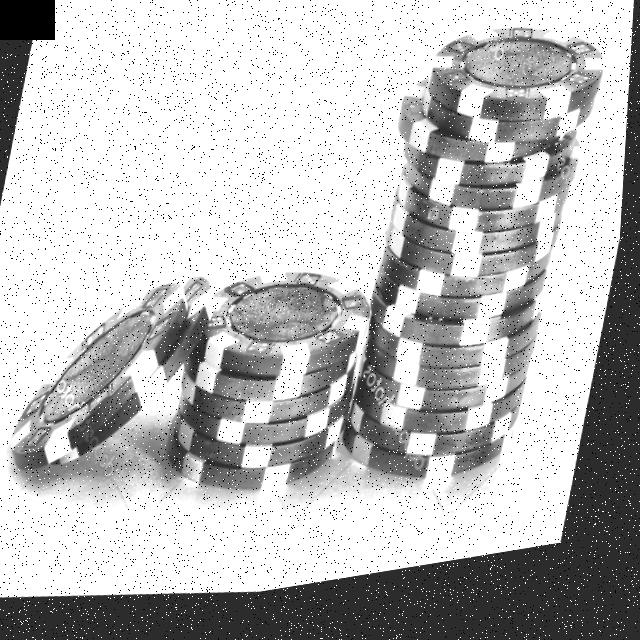Chip: (328, 13, 631, 531), (158, 250, 395, 526), (6, 225, 225, 501)
